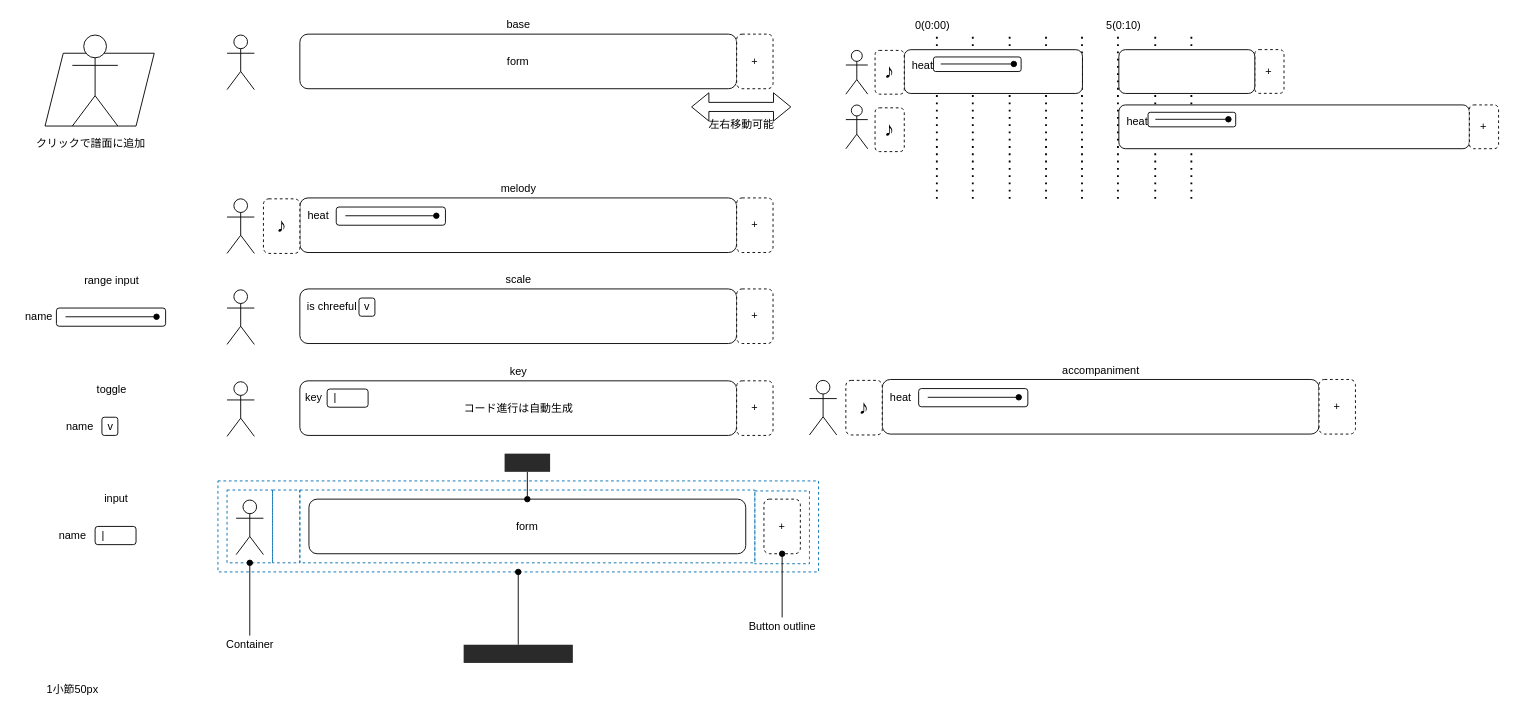
Some shapes in this 1515 by 714 pixel diagram are drawn without their labels. Each missing label, with the centre of its shape:
Grid direction="row": (x=517, y=653)
Paper: (x=527, y=462)
